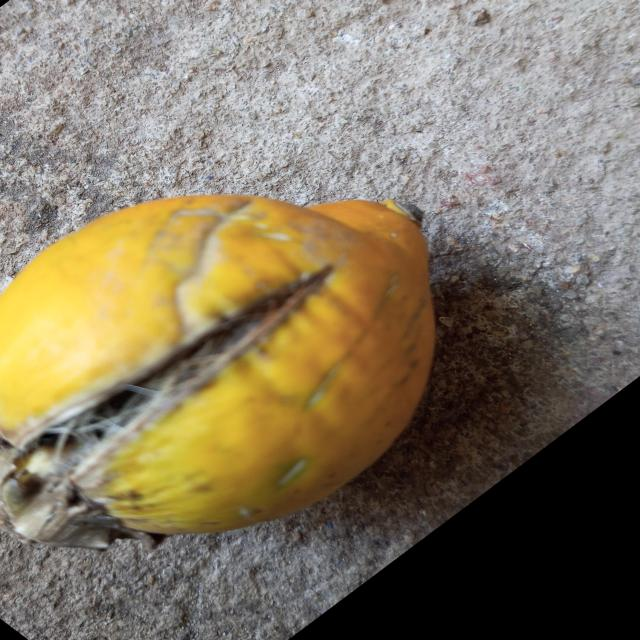damaged: (0, 195, 435, 549)
